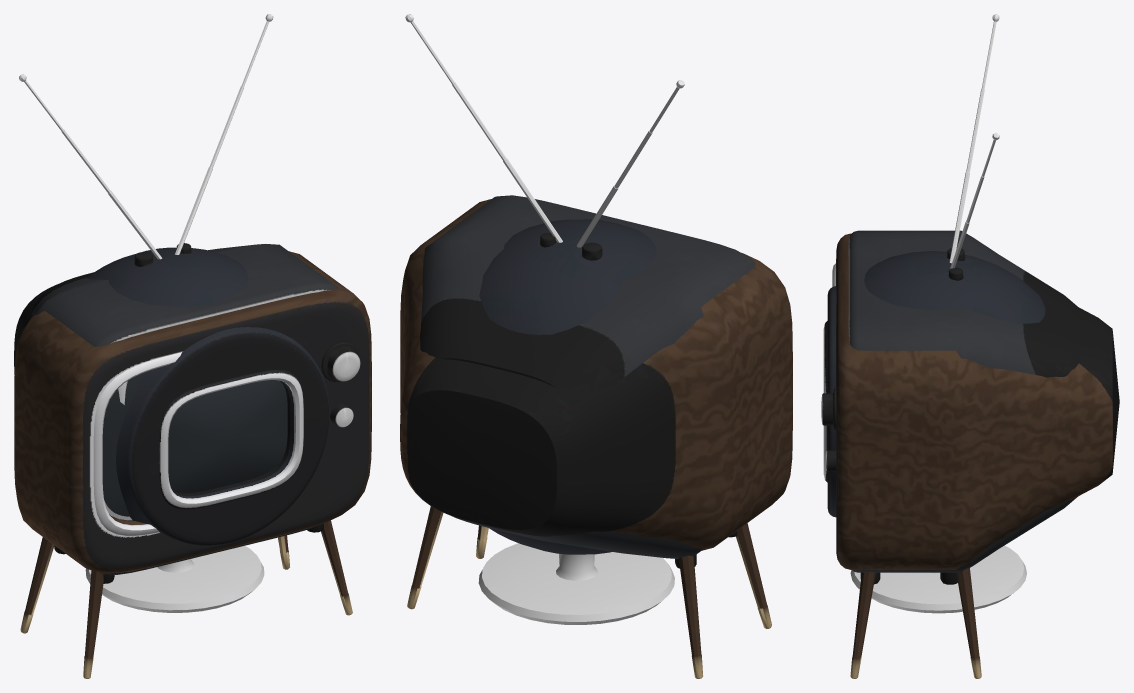
3 views of the same model, side by side, from view 1: azimuth 30°, elevation 25°; view 2: azimuth 150°, elevation 25°; view 3: azimuth 270°, elevation 25° (orthographic). The views are drawn at different scales.
Visible parts, largest first — view 1: TV_A_Body, TV_C_Body, TV_B_Body, TV_C_Screen, TV_A_Screen; view 2: TV_A_Body, TV_B_Body, TV_C_Body; view 3: TV_A_Body, TV_B_Body, TV_C_Body.
Boxes of the visible parts, bbox=[...] form: TV_A_Body: bbox=[14, 251, 371, 678]; TV_C_Body: bbox=[85, 243, 329, 612]; TV_B_Body: bbox=[19, 14, 337, 583]; TV_C_Screen: bbox=[168, 380, 287, 493]; TV_A_Screen: bbox=[102, 373, 172, 516]; TV_A_Body: bbox=[400, 199, 792, 678]; TV_B_Body: bbox=[405, 14, 755, 568]; TV_C_Body: bbox=[478, 219, 674, 624]; TV_A_Body: bbox=[821, 233, 1119, 678]; TV_B_Body: bbox=[848, 14, 1081, 584]; TV_C_Body: bbox=[823, 248, 1045, 613].
Size of the model in its own units: 1.2 by 2.1 by 1.05.
6 materials, 3 textured.
